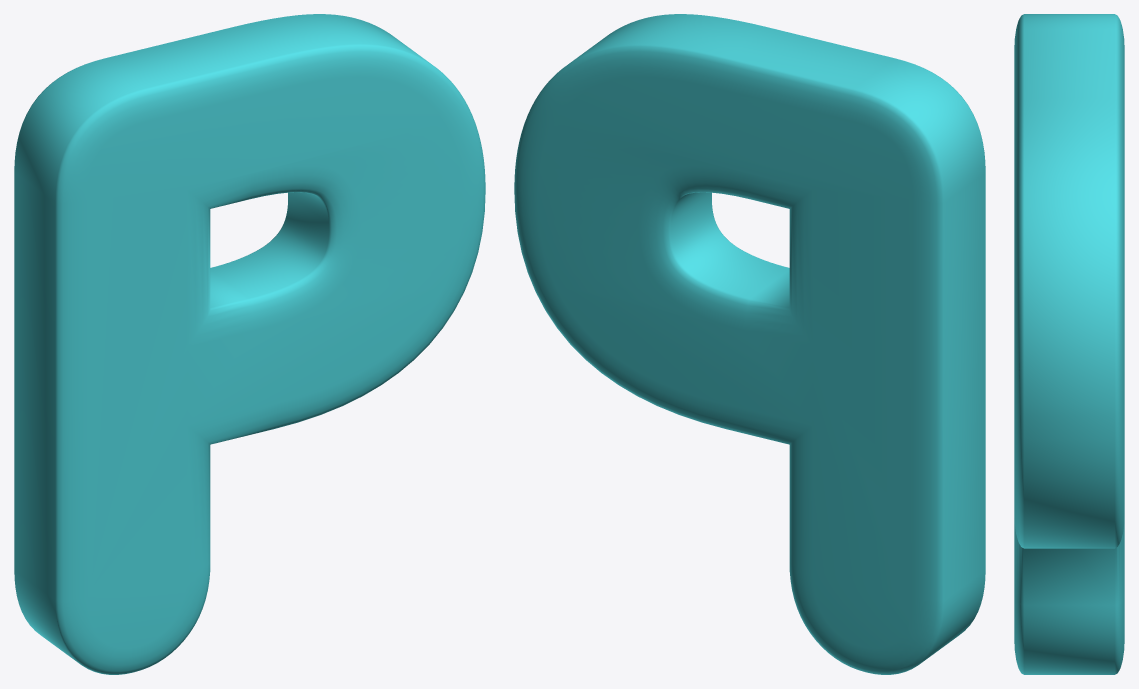
The model's file is RA_Letter_P.fbx.
3 views of the same model, side by side, from view 1: azimuth 30°, elevation 25°; view 2: azimuth 150°, elevation 25°; view 3: azimuth 270°, elevation 25° (orthographic). The views are drawn at different scales.
Visible parts, largest first — view 1: RA_Letter_P; view 2: RA_Letter_P; view 3: RA_Letter_P.
Part boxes in pixels (x1,y1,x2,y2): RA_Letter_P: [14, 14, 485, 674]; RA_Letter_P: [514, 14, 985, 674]; RA_Letter_P: [1014, 14, 1124, 674].
Size of the model in its own units: 139 by 180 by 28.
